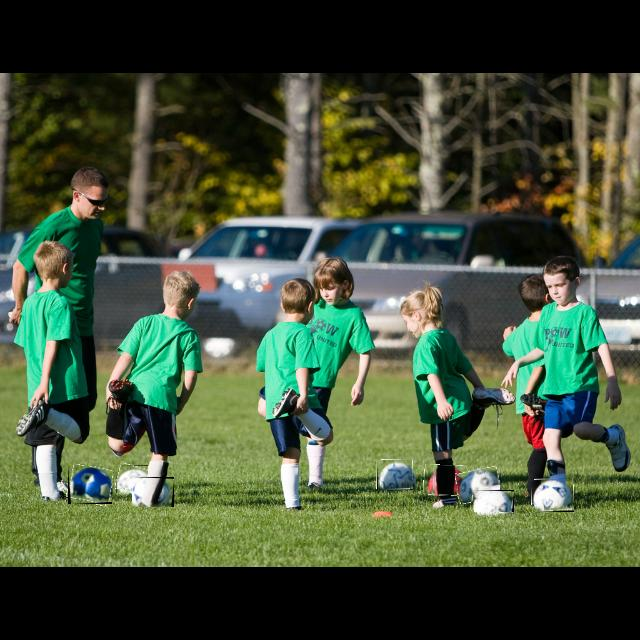Football: (68, 466, 112, 504), (457, 468, 501, 502), (532, 478, 574, 512), (424, 465, 466, 497), (132, 477, 174, 507), (377, 460, 413, 490), (116, 465, 148, 493), (474, 490, 514, 512)
